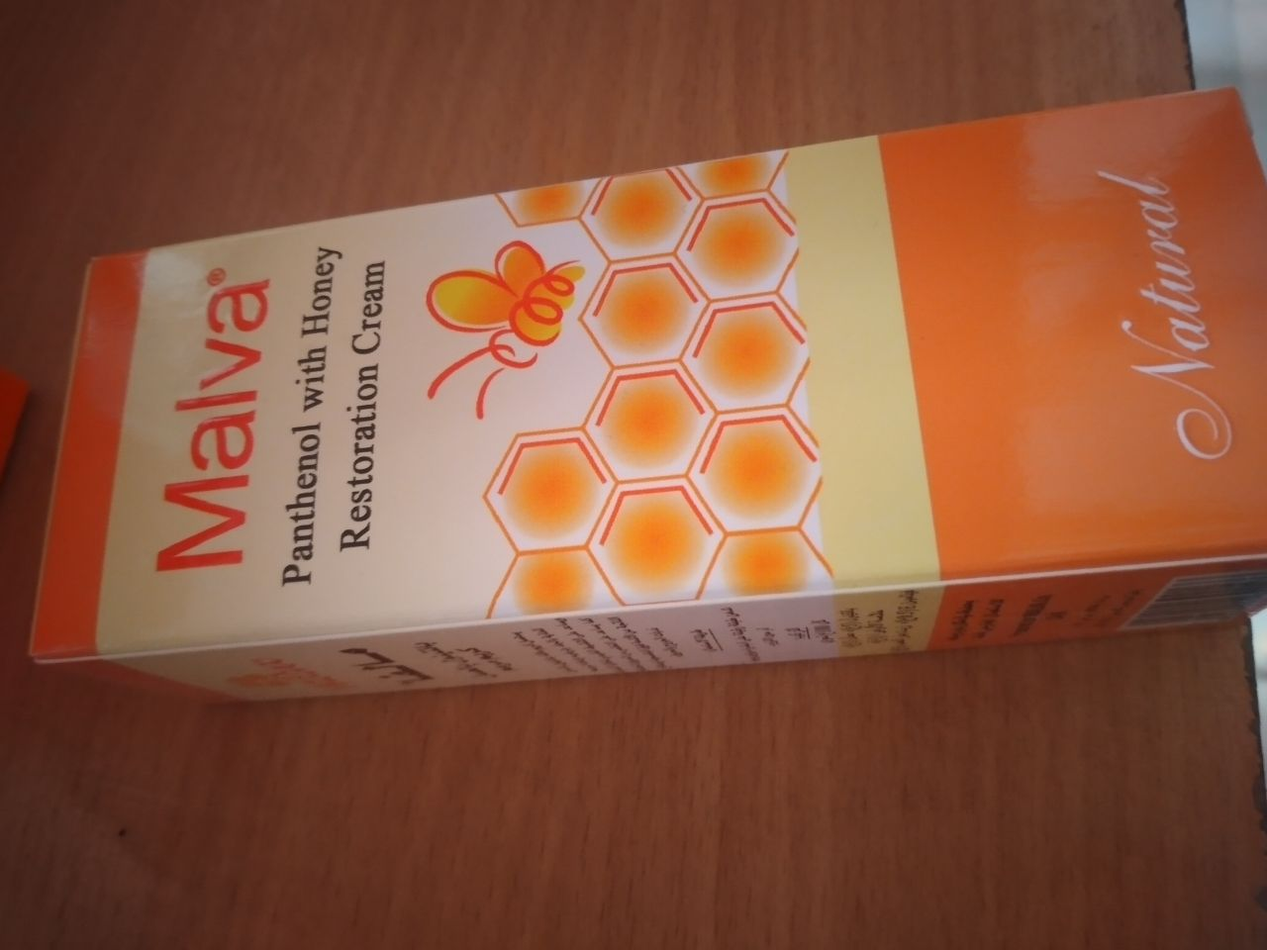Medicine: (27, 104, 1267, 683)
